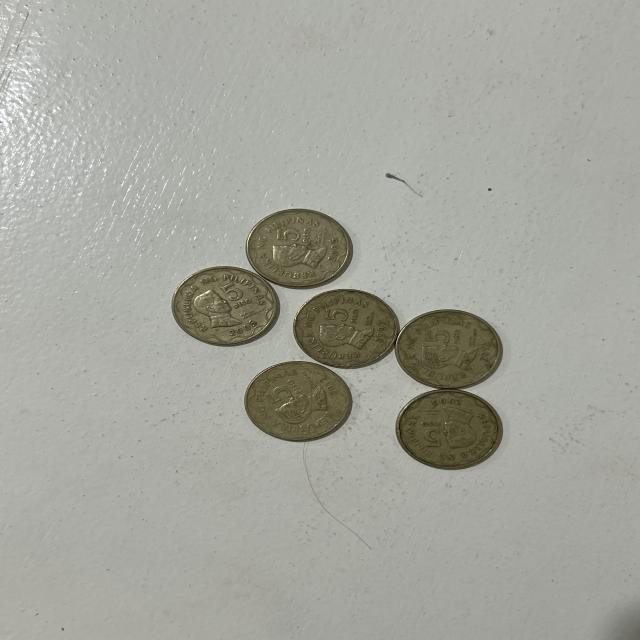5_Old_Front: (262, 378, 308, 407), (272, 225, 328, 248), (317, 304, 364, 328), (226, 285, 259, 315), (415, 414, 443, 448), (424, 328, 462, 347)
